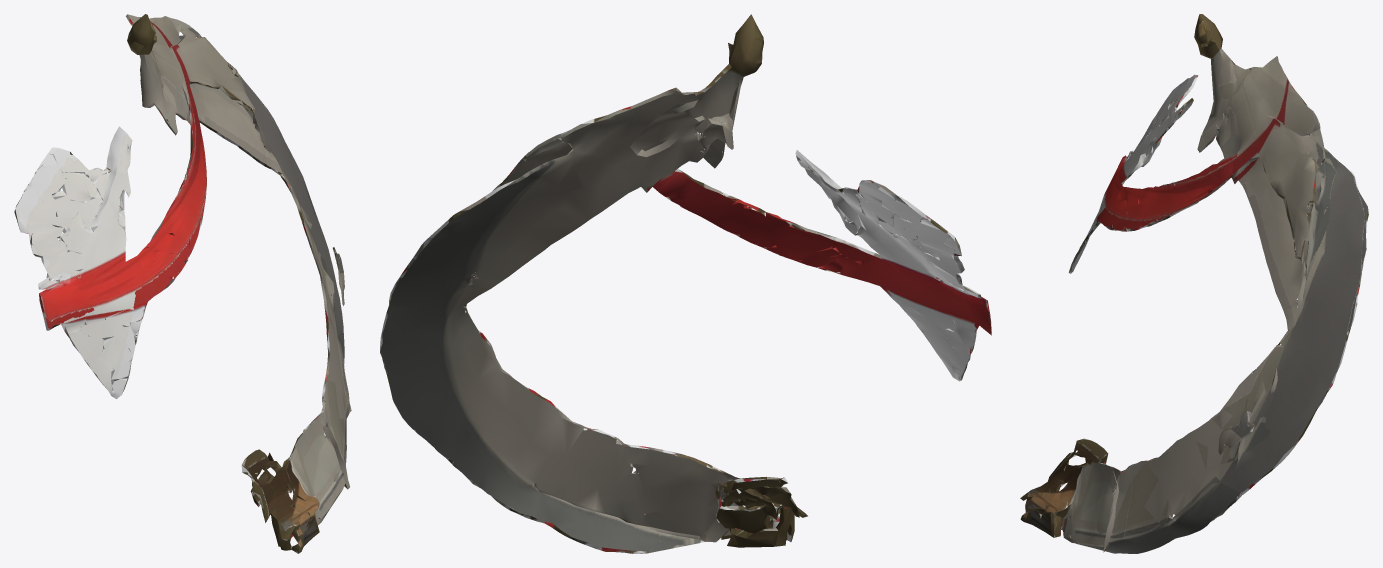
Rendered from etiopia_alianza_65b.glb.
The picture shows the model from 3 angles, left to right: view 1: azimuth 30°, elevation 25°; view 2: azimuth 150°, elevation 25°; view 3: azimuth 270°, elevation 25°; orthographic projection. The views are drawn at different scales.
Parts seen in each view (by area): view 1: geometry_0; view 2: geometry_0; view 3: geometry_0.
Part boxes in pixels (x1=…): geometry_0: x1=14, y1=14, x2=351, y2=553; geometry_0: x1=380, y1=14, x2=991, y2=553; geometry_0: x1=1020, y1=14, x2=1368, y2=553.
Bounding box in the file's own units: 3.4 × 4.2 × 2.78.
1 material, 1 textured.
